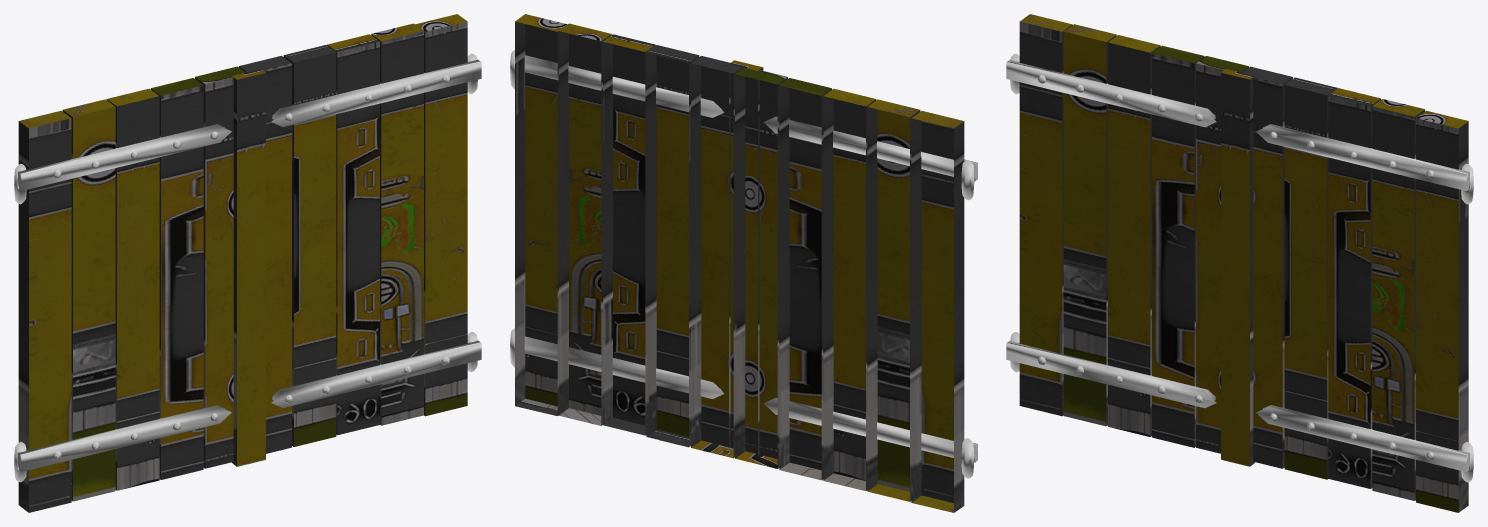
The model's file is window_shutters.obj.
3 renders of one model, left to right at view 1: azimuth 30°, elevation 25°; view 2: azimuth 150°, elevation 25°; view 3: azimuth 330°, elevation 25°, orthographic.
Parts seen in each view (by area): view 1: polySurface3441, fromBlender1:Mesh, Mesh; view 2: polySurface3441, fromBlender1:Mesh, Mesh; view 3: polySurface3441, Mesh, fromBlender1:Mesh.
Part boxes in pixels (<box>): polySurface3441: <box>18,14,467,512</box>; fromBlender1:Mesh: <box>14,124,231,482</box>; Mesh: <box>271,53,481,407</box>; polySurface3441: <box>515,14,964,512</box>; fromBlender1:Mesh: <box>763,116,977,478</box>; Mesh: <box>510,50,724,398</box>; polySurface3441: <box>1019,14,1468,512</box>; Mesh: <box>1256,124,1473,482</box>; fromBlender1:Mesh: <box>1006,53,1216,408</box>.
Size of the model in its own units: 105 by 84.16 by 6.01.
